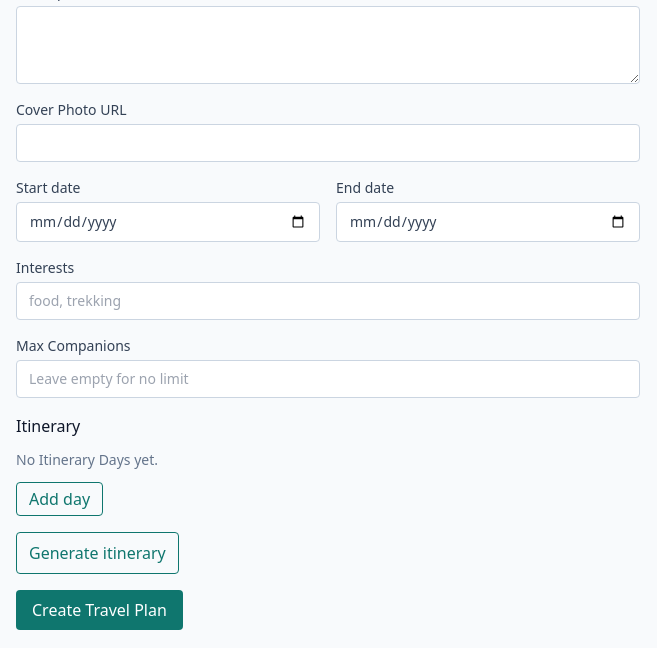
PlanForm › asks_for_destination_and_dates_before_generating
The image size is (657, 648).
(page scrolled)
Step 1. Click the button "Generate itinerary" → {"x": 97, "y": 553}, box [16,532,179,574]
(page scrolled)
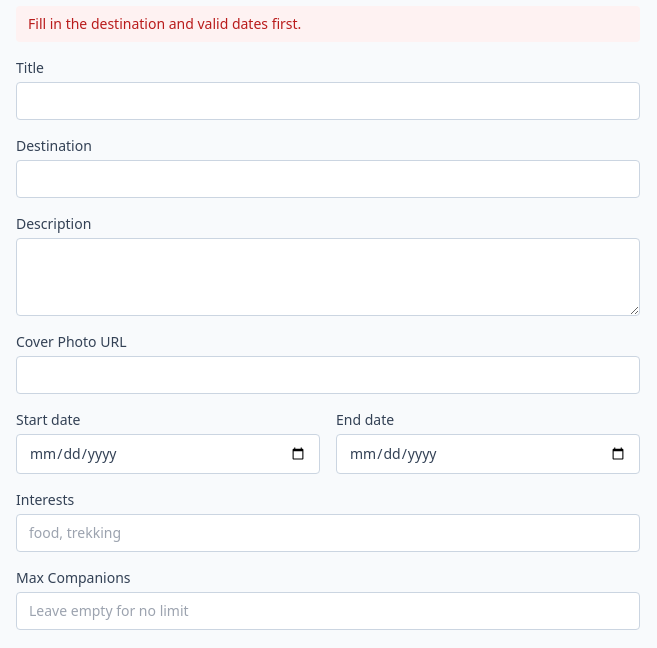
Expected: the message shows "destination and valid dates", [28,14,301,33]
